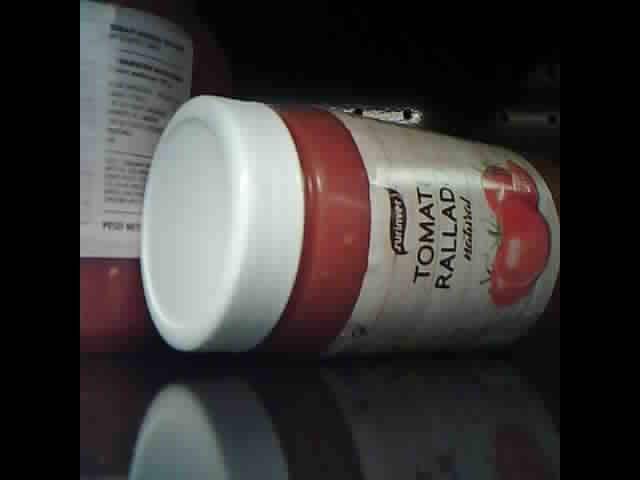tomate: (139, 93, 560, 355), (82, 2, 201, 353)
